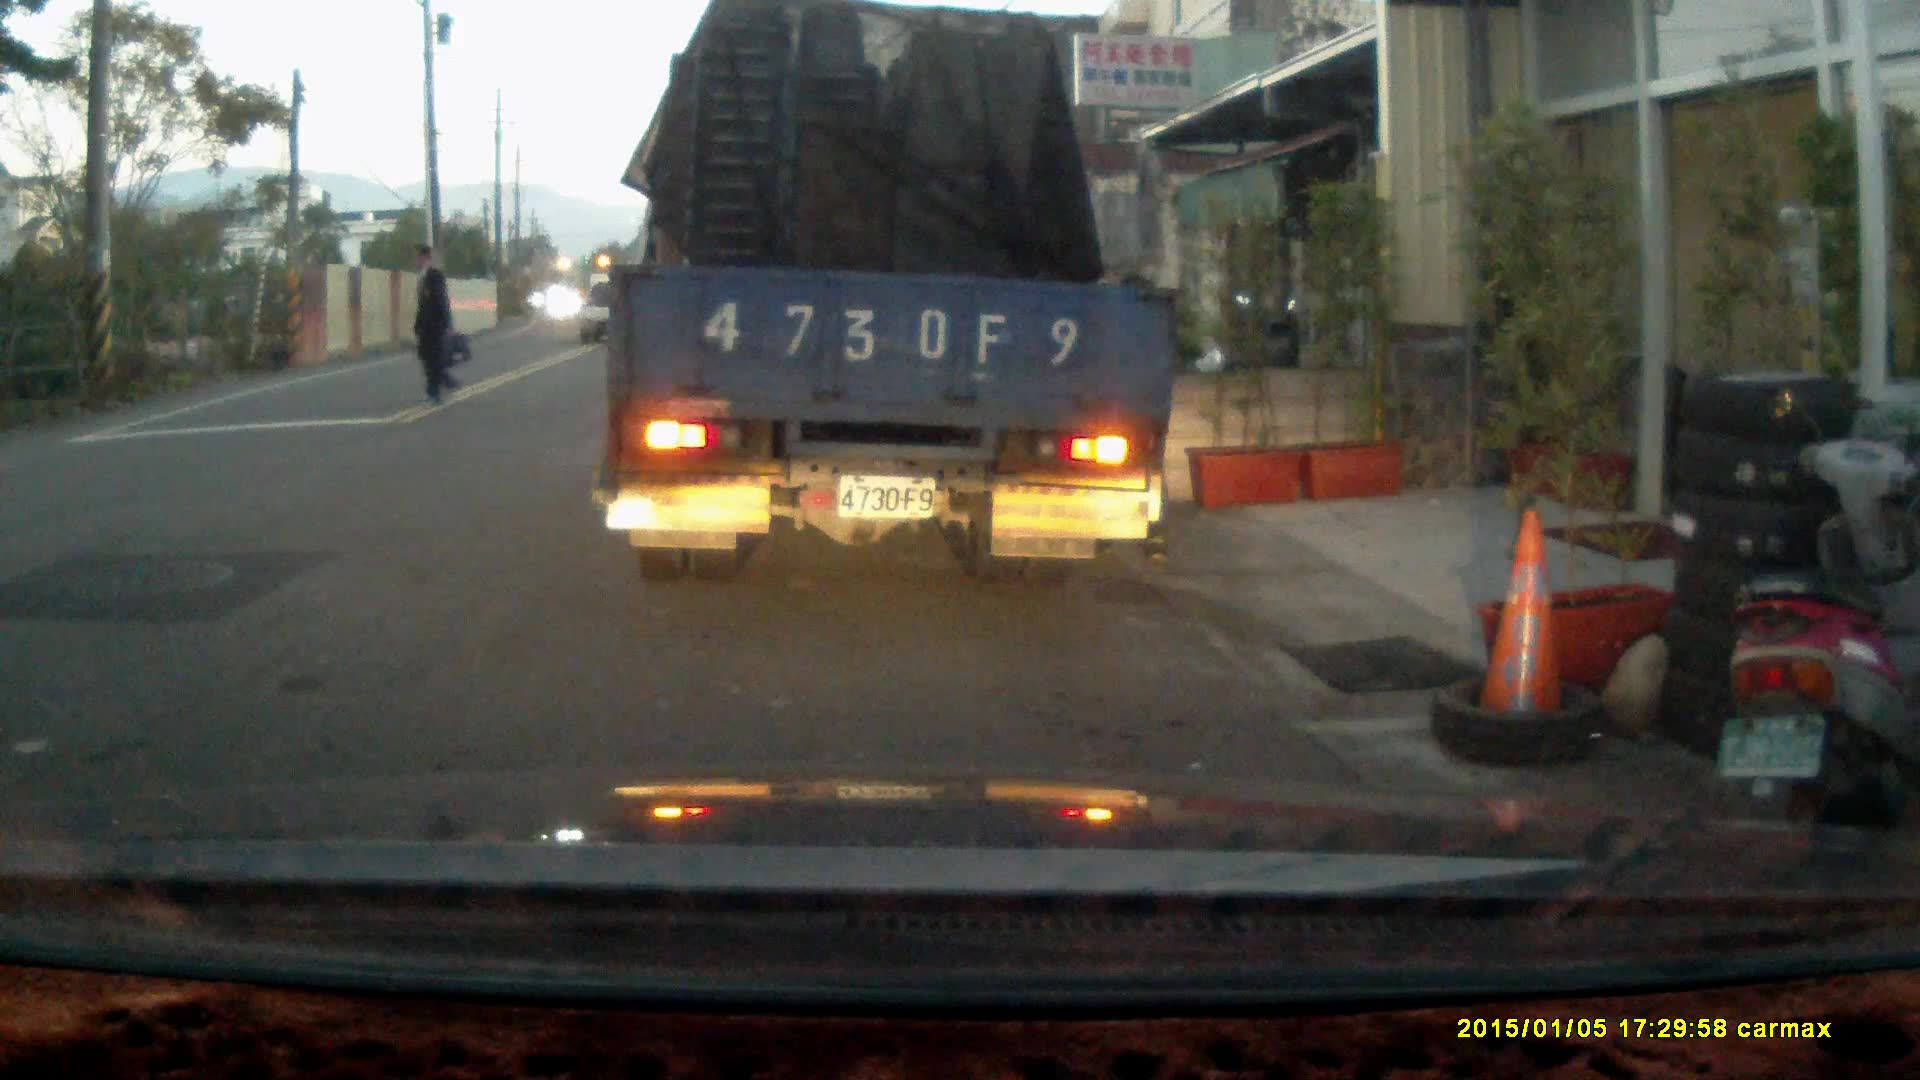pedestrian: (409, 241, 470, 407)
vehicle: (604, 23, 1188, 572), (576, 280, 640, 347)
